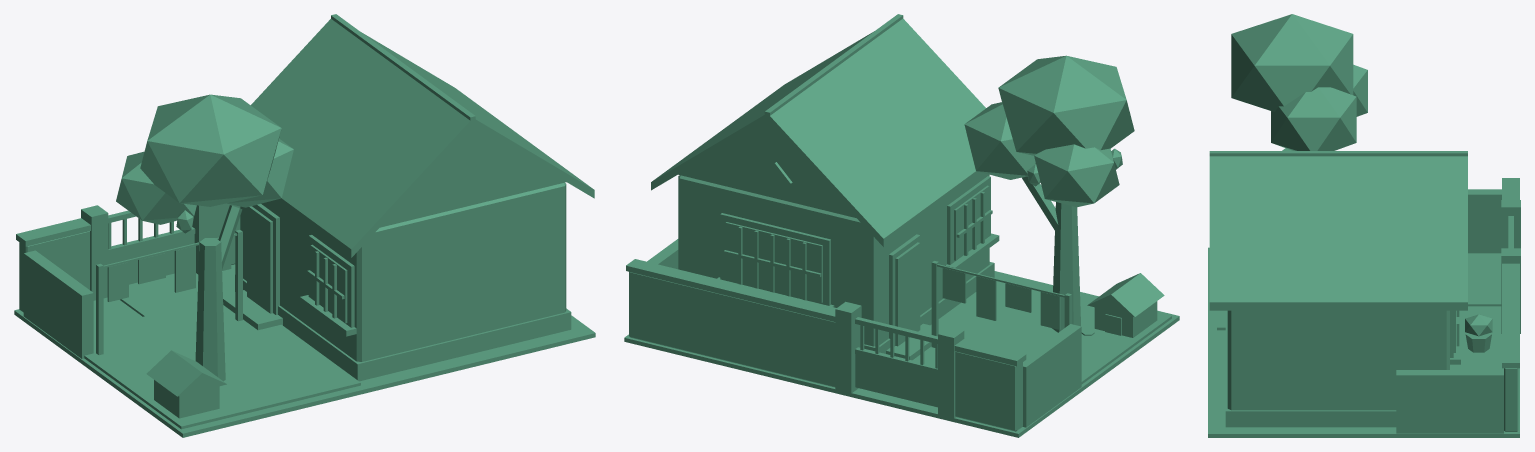
The picture shows the model from 3 angles, left to right: view 1: azimuth 30°, elevation 25°; view 2: azimuth 150°, elevation 25°; view 3: azimuth 270°, elevation 25°; orthographic projection. The views are drawn at different scales.
Parts seen in each view (by area): view 1: corpo; view 2: corpo; view 3: corpo.
Boxes of the visible parts, x1,y1,x2,y2 form: corpo: (14,14,595,437); corpo: (624,14,1179,437); corpo: (1208,14,1520,437).
Size of the model in its own units: 1.23 by 0.832 by 0.8725.
